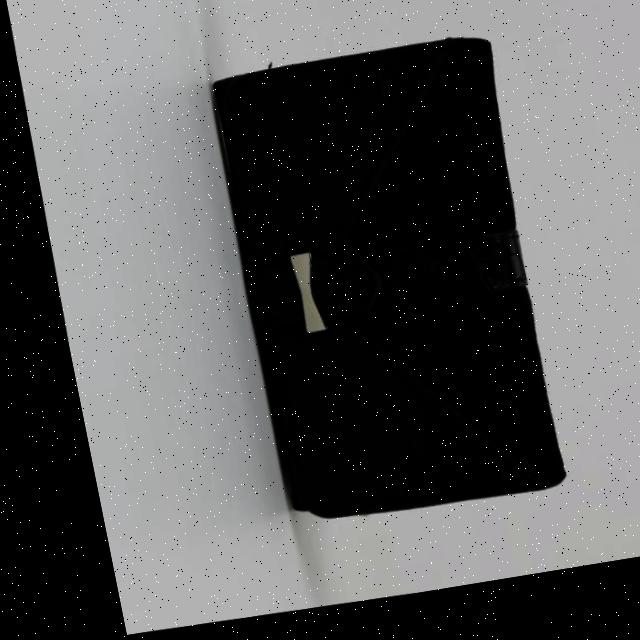cuzdan: (168, 30, 583, 606)
